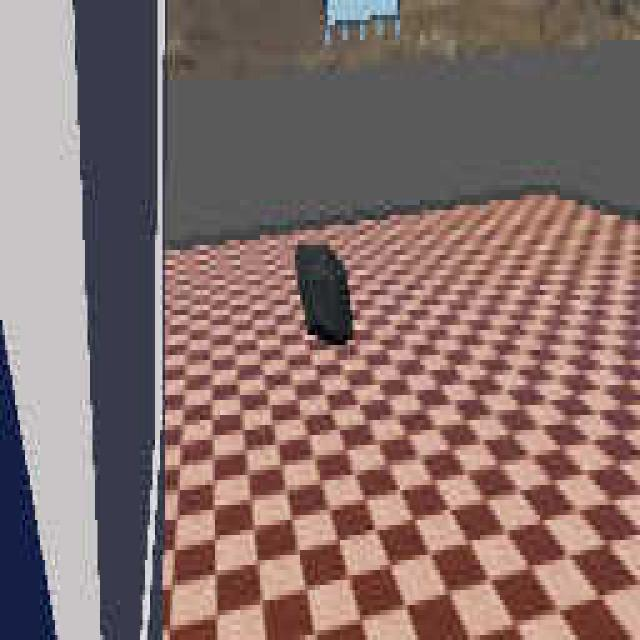rock: (294, 243, 354, 345)
